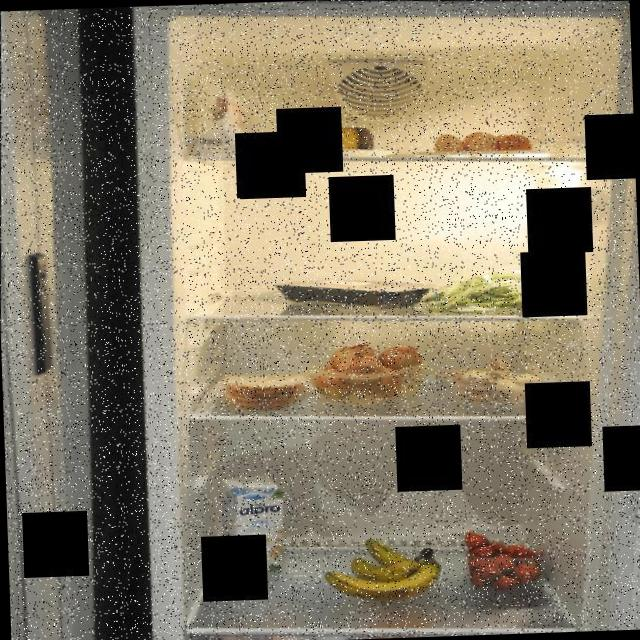Cebolla: (308, 334, 428, 404)
Champiñones: (444, 353, 548, 410)
Huevos: (430, 125, 536, 160)
Leche: (212, 469, 290, 582)
Plátano: (310, 529, 450, 608)
Queso: (286, 120, 379, 158)
bread: (218, 366, 308, 413)
flour: (190, 84, 270, 159)
green_beans: (416, 258, 558, 320)
strawberries: (460, 525, 546, 593)
